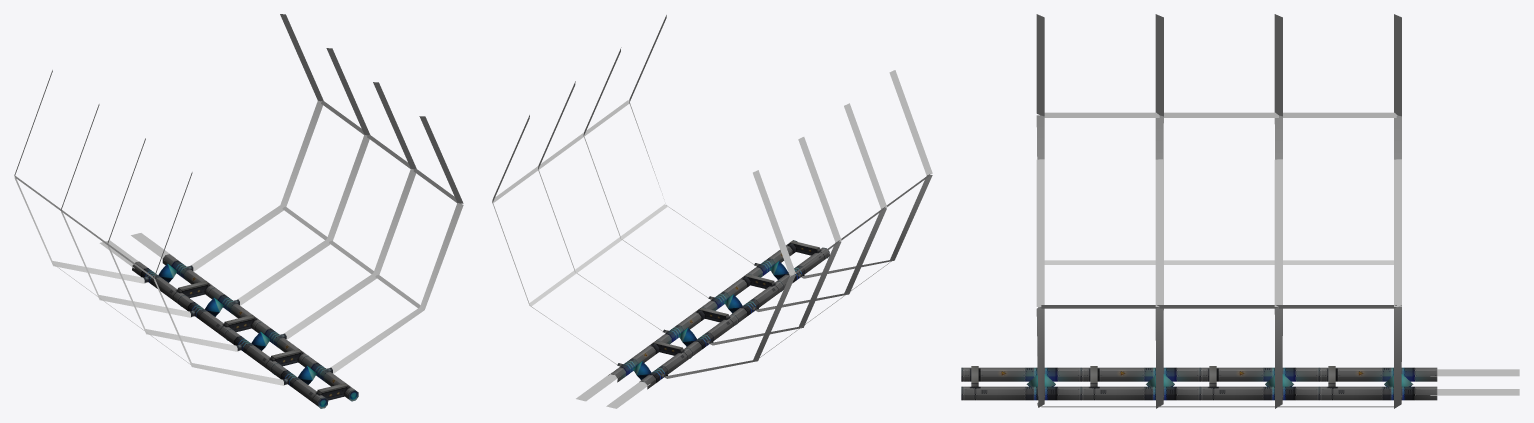
Rendered from tunnel_03.FBX.
The picture shows the model from 3 angles, left to right: view 1: azimuth 30°, elevation 25°; view 2: azimuth 150°, elevation 25°; view 3: azimuth 270°, elevation 25°; orthographic projection. The views are drawn at different scales.
Parts seen in each view (by area): view 1: Plane008, tunnel_03; view 2: Plane008, tunnel_03; view 3: Plane008, tunnel_03.
Boxes of the visible parts, <box> form: Plane008: <box>14,14,463,385</box>; tunnel_03: <box>132,254,358,408</box>; Plane008: <box>492,15,932,408</box>; tunnel_03: <box>608,240,829,389</box>; Plane008: <box>1036,14,1519,408</box>; tunnel_03: <box>961,366,1437,400</box>.
Size of the model in its own units: 384 by 288 by 469.
